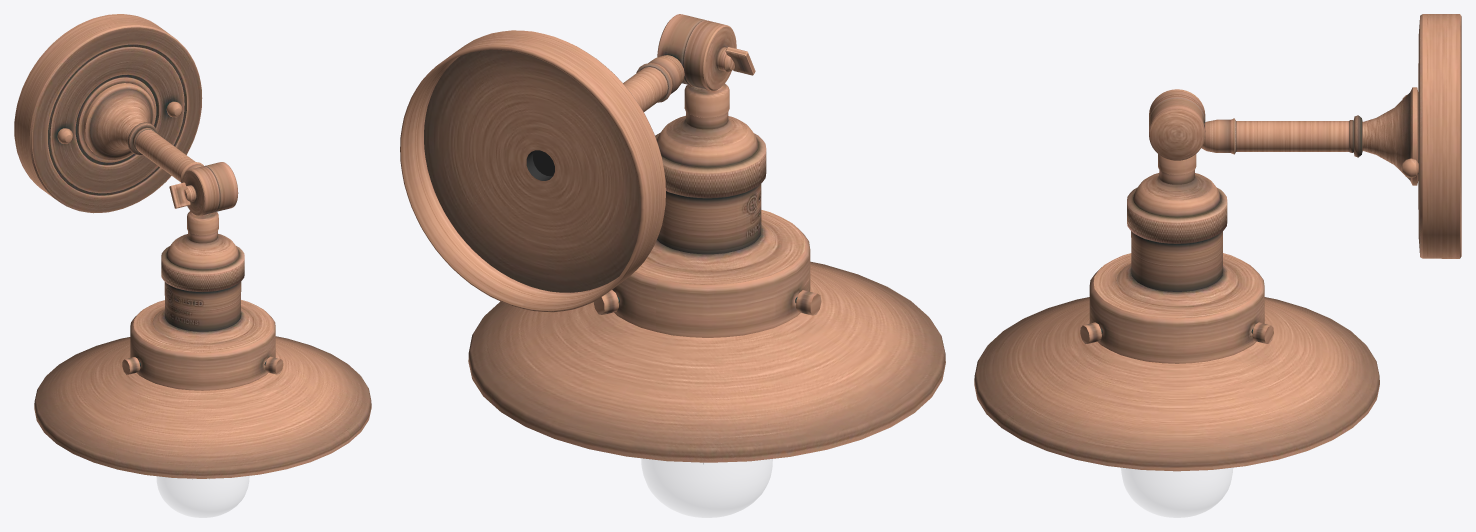
The model's file is casa-lamp.glb.
3 views of the same model, side by side, from view 1: azimuth 30°, elevation 25°; view 2: azimuth 150°, elevation 25°; view 3: azimuth 270°, elevation 25° (orthographic). The views are drawn at different scales.
Visible parts, largest first — view 1: Lamp Metal, Lamp Glass; view 2: Lamp Metal, Lamp Glass; view 3: Lamp Metal, Lamp Glass.
Part boxes in pixels (<box>): Lamp Metal: <box>14,14,371,479</box>; Lamp Glass: <box>157,476,249,517</box>; Lamp Metal: <box>400,14,945,464</box>; Lamp Glass: <box>641,458,772,517</box>; Lamp Metal: <box>974,14,1461,471</box>; Lamp Glass: <box>1121,468,1232,517</box>.
Bounding box in the file's own units: 0.1908 × 0.2552 × 0.2265.
3 materials, 1 textured.
